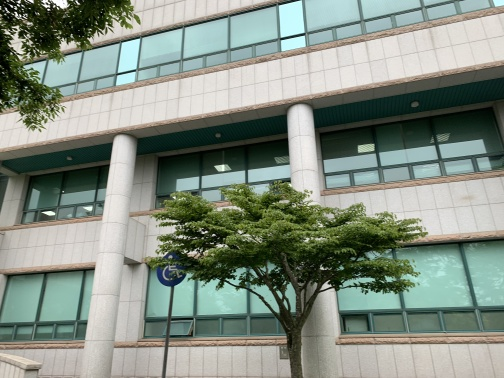Second Library: (38, 31, 497, 358)
